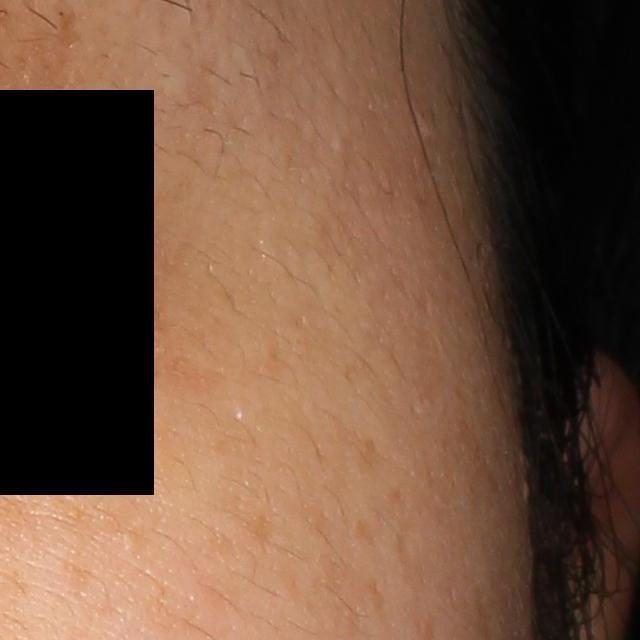melasma: (333, 414, 377, 477), (222, 504, 282, 549), (286, 497, 338, 545), (352, 515, 376, 549)
